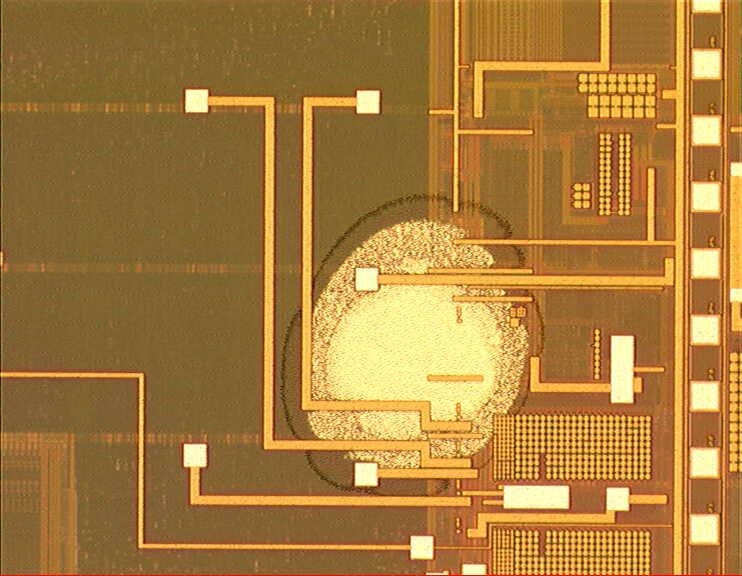BLOCK ETCH: (281, 191, 551, 505)
